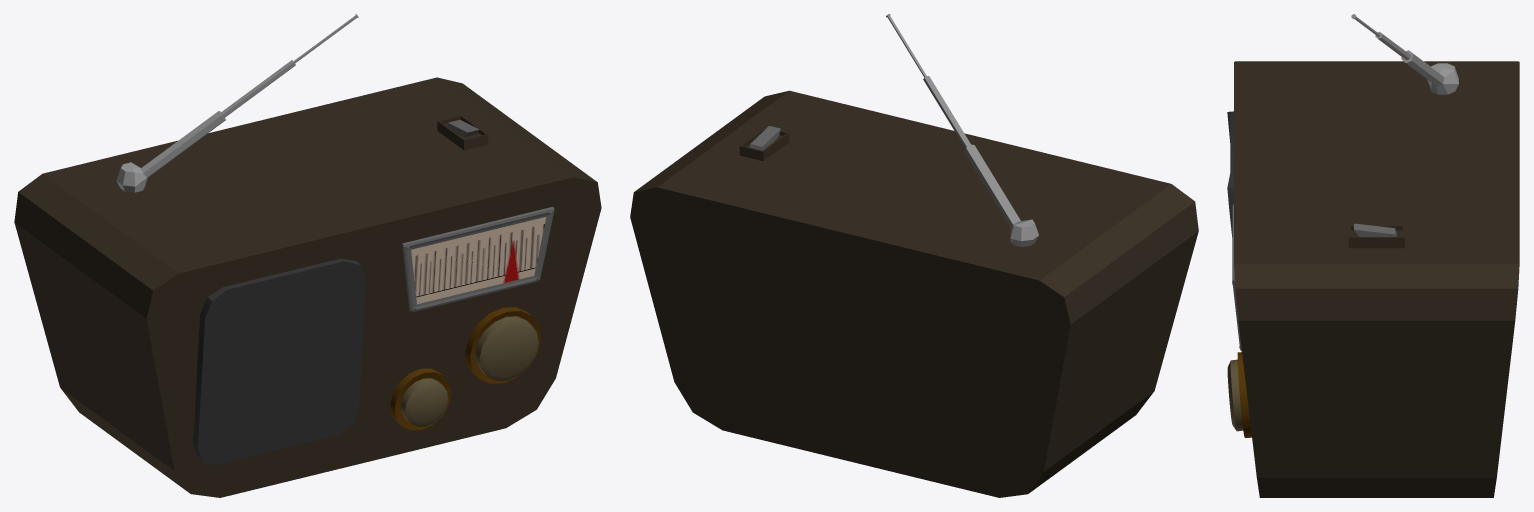
Rendered from Radio.fbx.
3 views of the same model, side by side, from view 1: azimuth 30°, elevation 25°; view 2: azimuth 150°, elevation 25°; view 3: azimuth 270°, elevation 25° (orthographic). The views are drawn at different scales.
Visible parts, largest first — view 1: Radio, Speaker, Panel, Buttons; view 2: Radio; view 3: Radio, Buttons, Speaker, Switch, Panel.
Part boxes in pixels (<box>): Radio: <box>14,14,601,497</box>; Speaker: <box>193,258,366,464</box>; Panel: <box>402,207,554,311</box>; Buttons: <box>390,307,541,430</box>; Radio: <box>630,14,1198,497</box>; Radio: <box>1234,14,1519,497</box>; Buttons: <box>1227,352,1251,437</box>; Speaker: <box>1227,111,1233,236</box>; Switch: <box>1354,223,1396,236</box>; Panel: <box>1232,204,1241,351</box>.
Bounding box in the file's own units: 96.3 × 82.41 × 51.17.
Materials: 8 (1 with a texture image).
